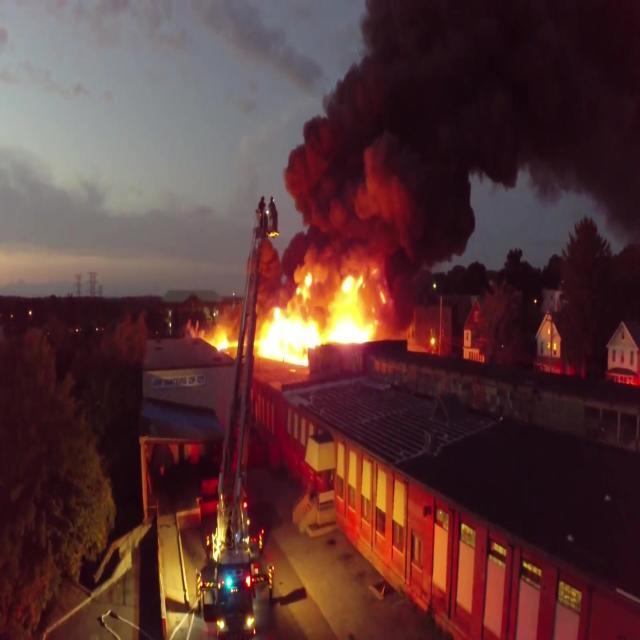Fire: (208, 262, 394, 366)
Smoke: (210, 0, 600, 346)
